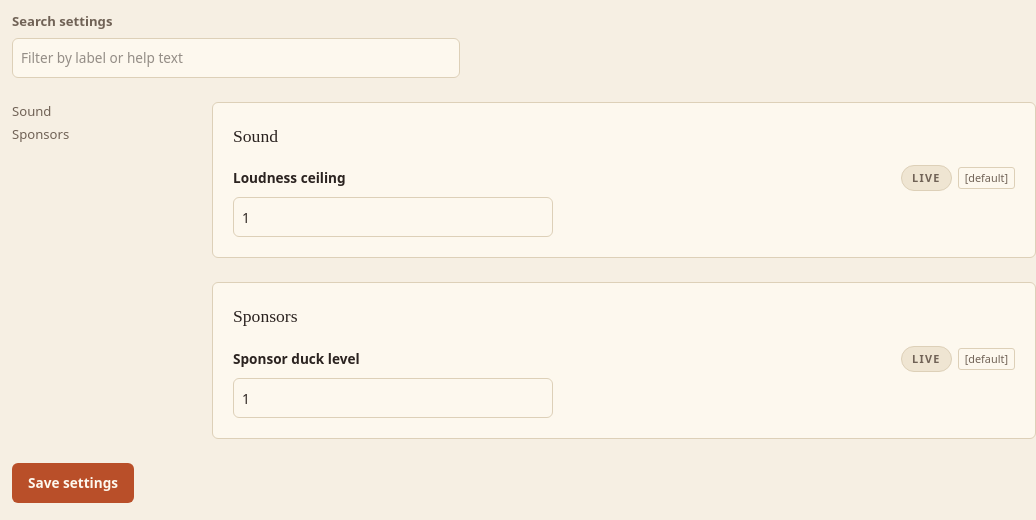
Test: Feature: Settings page renders the descriptor › Scenario: a search that empties one section but not another (M6) › drops the emptied section's own index entry from the nav
This screenshot has width=1036, height=520.
Type "sponsor" into the search field labelled "Search settings" at (236, 58), box [12, 38, 460, 78]
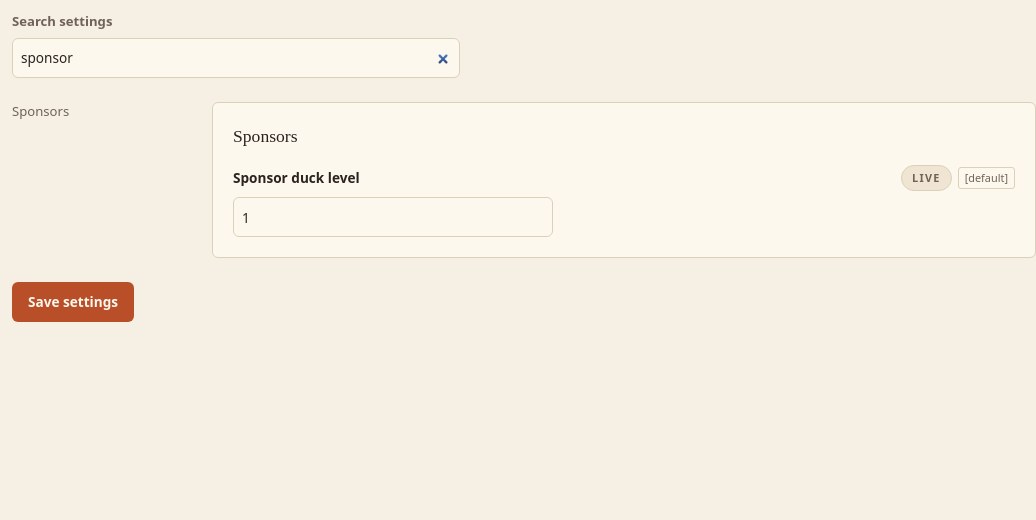
Now the link "Sound" is gone
